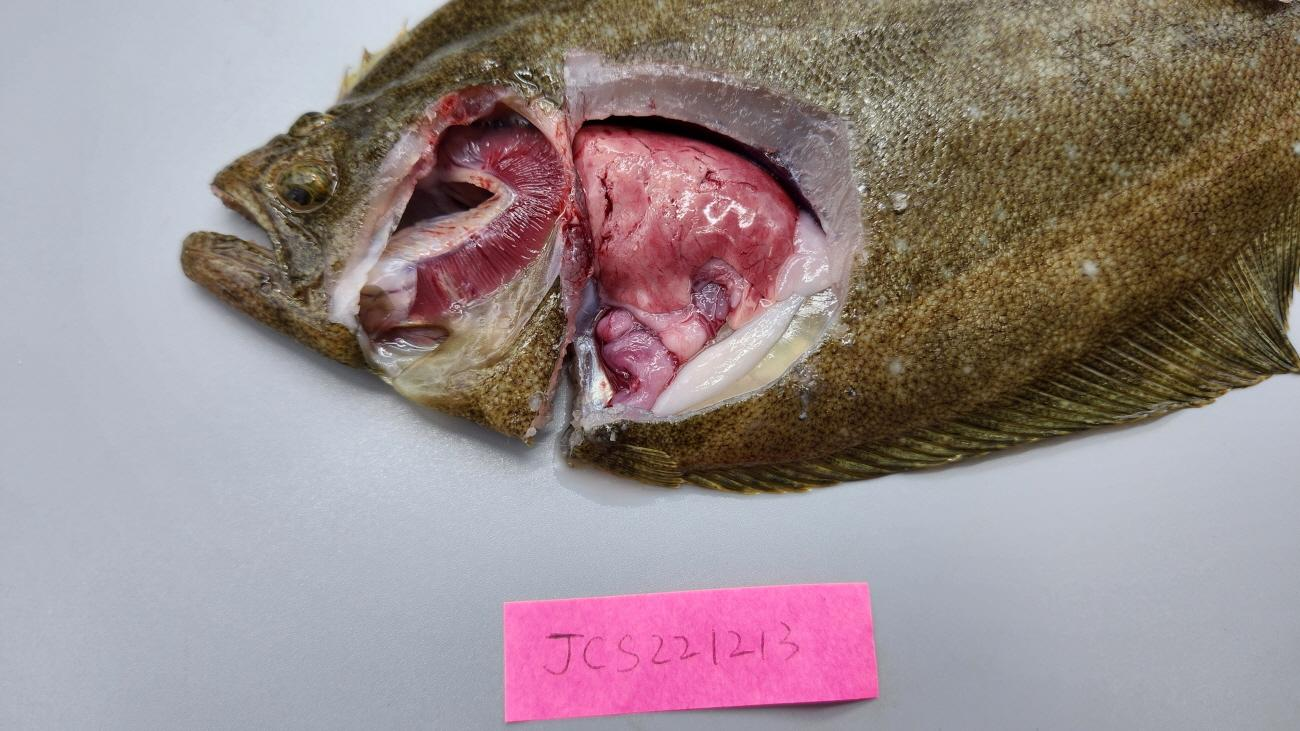VILIC: (598, 230, 633, 302)
